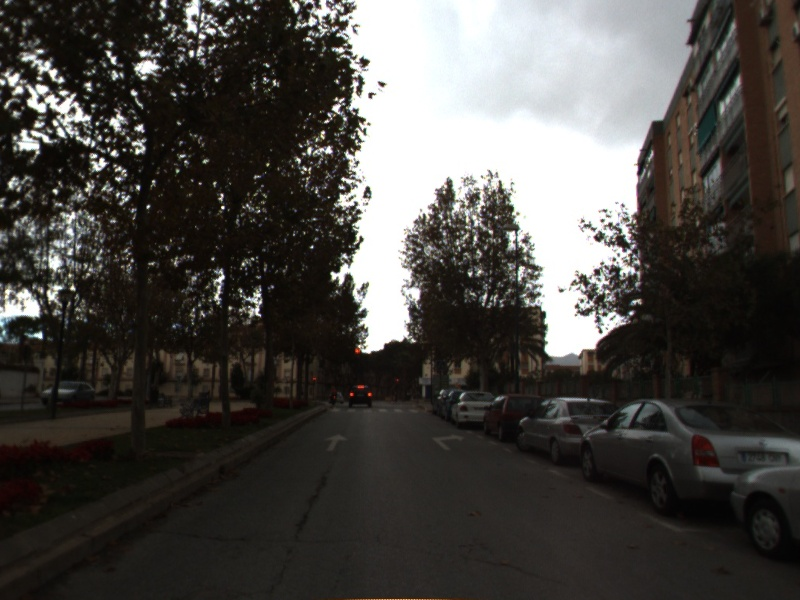RIGHT: (429, 431, 467, 453)
STRAIGHT: (322, 432, 351, 453)
